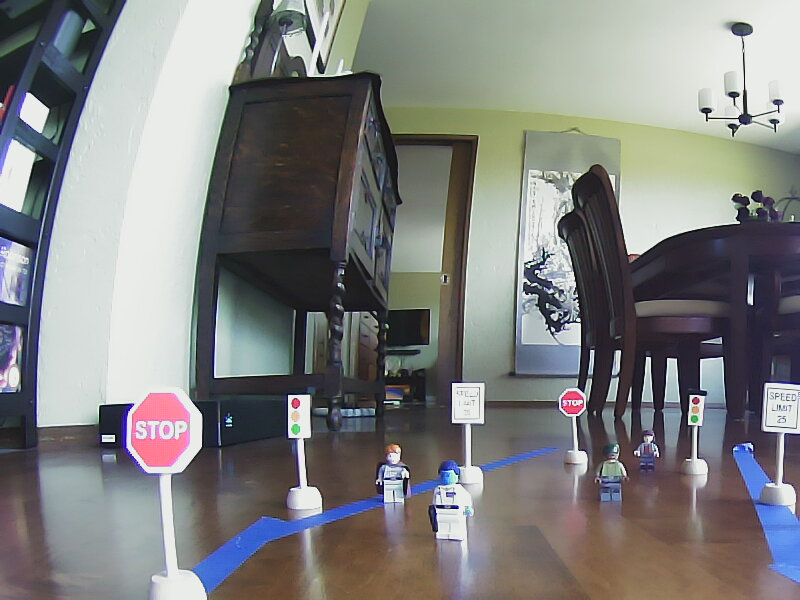SpeedLimit25: (762, 383, 795, 430), (453, 382, 483, 421)
StopSign: (125, 390, 205, 479), (559, 386, 585, 418)
TrafficLight: (284, 387, 314, 442), (685, 387, 704, 429)
person: (429, 459, 472, 538), (375, 440, 408, 502), (594, 441, 627, 503), (633, 427, 665, 471)
